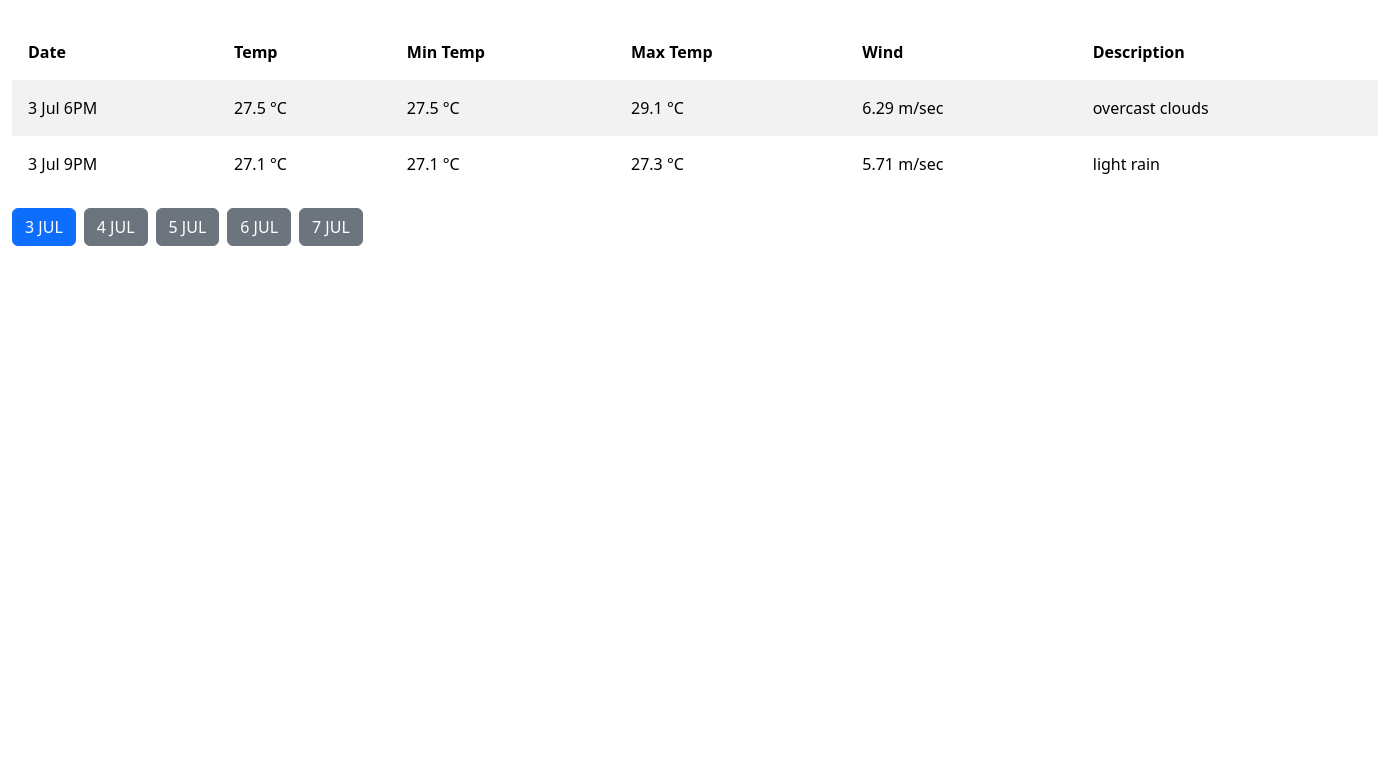
Test: Forecast Component › renders date buttons and filters the weather for the specific date
Click the button "5 JUL".
click(187, 227)  # box [156,208,219,246]
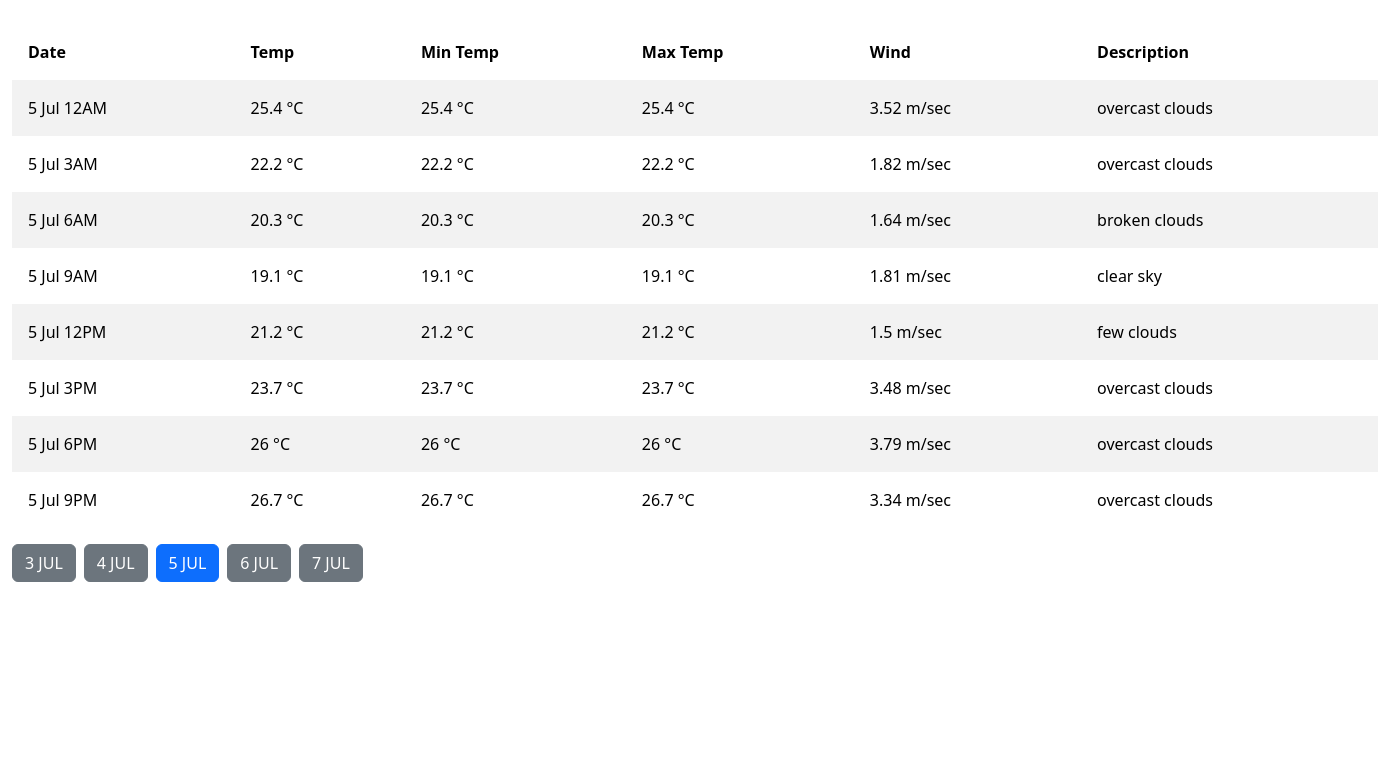
expect the text "5 Jul 12AM" is shown: met, box [12,80,235,136]
expect the text "3.52 m/sec" is shown: met, box [854,80,1081,136]
expect the text "overcast clouds" is shown 5 times: met, box [1081,80,1377,136]; [1081,136,1377,192]; [1081,360,1377,416]; [1081,416,1377,472]; [1081,472,1377,528]
